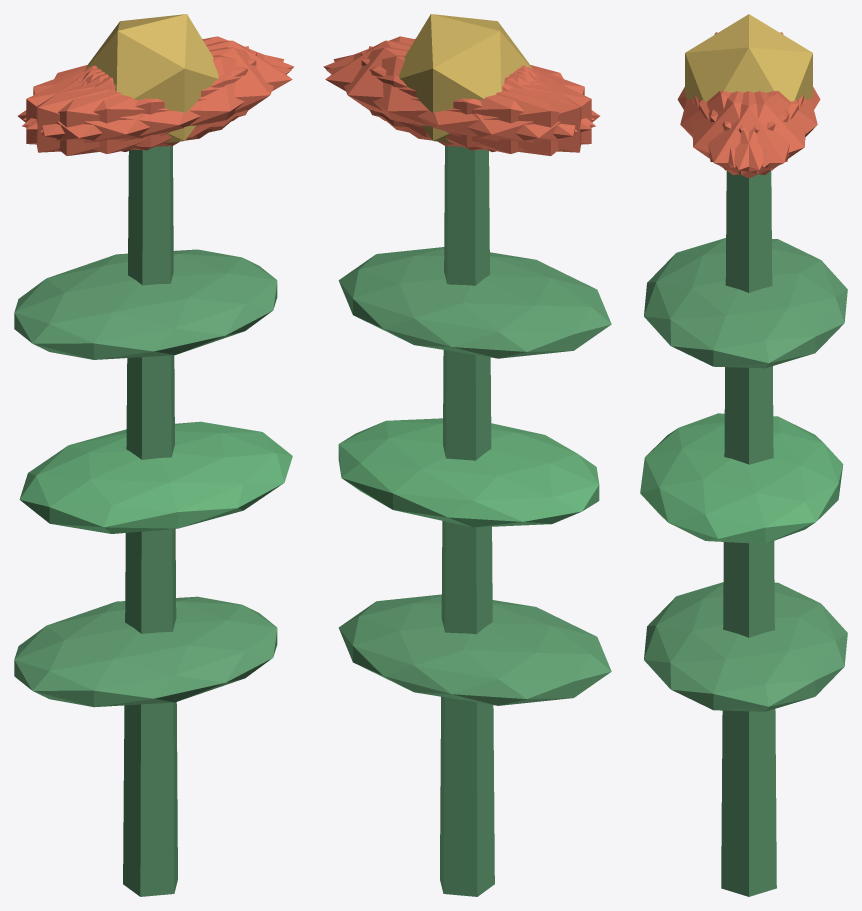
The model's file is trema-tomentosum.glb.
3 renders of one model, left to right at view 1: azimuth 30°, elevation 25°; view 2: azimuth 150°, elevation 25°; view 3: azimuth 270°, elevation 25°, orthographic.
Parts seen in each view (by area): view 1: stem, leaf1, leaf2, leaf0, center, petal1, petal6, petal2, petal5, petal7, petal0, petal4 (+2 smaller); view 2: stem, leaf2, leaf0, leaf1, center, petal8, petal3, petal7, petal4, petal2, petal0, petal5 (+2 smaller); view 3: stem, leaf2, leaf1, leaf0, center, petal0, petal4, petal5, petal8, petal1.
Part boxes in pixels (box(x1,y1,x2,y2)): stem: box(123, 146, 177, 896); leaf1: box(19, 421, 292, 533); leaf2: box(14, 249, 277, 359); leaf0: box(14, 596, 277, 707); center: box(86, 14, 218, 143); petal1: box(22, 55, 291, 153); petal6: box(18, 67, 212, 155); petal2: box(36, 46, 248, 152); petal5: box(40, 47, 284, 147); petal7: box(26, 52, 256, 150); petal0: box(85, 40, 292, 137); petal4: box(23, 36, 294, 129); stem: box(440, 146, 494, 896); leaf2: box(338, 247, 611, 358); leaf0: box(338, 594, 611, 705); leaf1: box(338, 418, 599, 527); center: box(399, 14, 531, 143); petal8: box(326, 55, 595, 153); petal3: box(404, 67, 599, 155); petal7: box(368, 46, 581, 152); petal4: box(333, 47, 577, 147); petal2: box(361, 52, 591, 150); petal0: box(325, 40, 532, 137); petal5: box(323, 36, 594, 129); stem: box(721, 171, 776, 896); leaf2: box(644, 238, 847, 368); leaf1: box(640, 413, 843, 543); leaf0: box(644, 582, 847, 711); center: box(685, 14, 812, 101); petal0: box(694, 91, 803, 178); petal4: box(699, 91, 805, 175); petal5: box(692, 91, 798, 175); petal8: box(708, 91, 817, 167); petal1: box(680, 91, 789, 167).
Size of the model in its own units: 0.1476 by 0.4506 by 0.0994.
